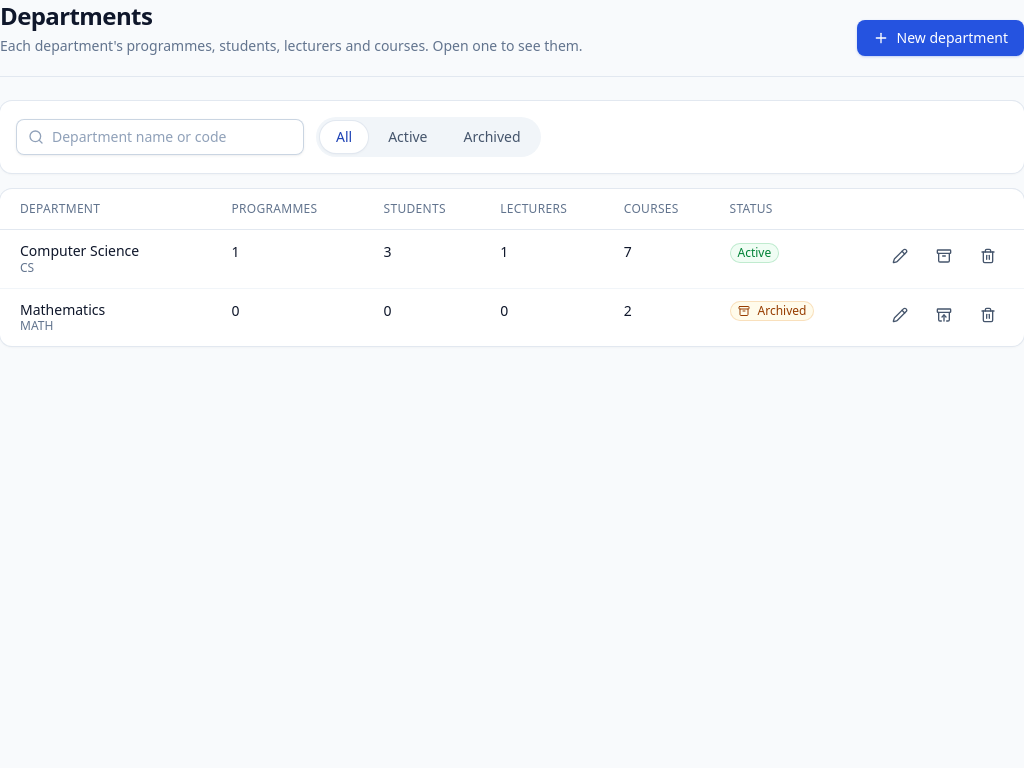
Test: Departments page › admins can archive, after a confirmation that explains what archiving does
Click the button named "Archive CS". click: (944, 256)
box: [924,242,964,270]
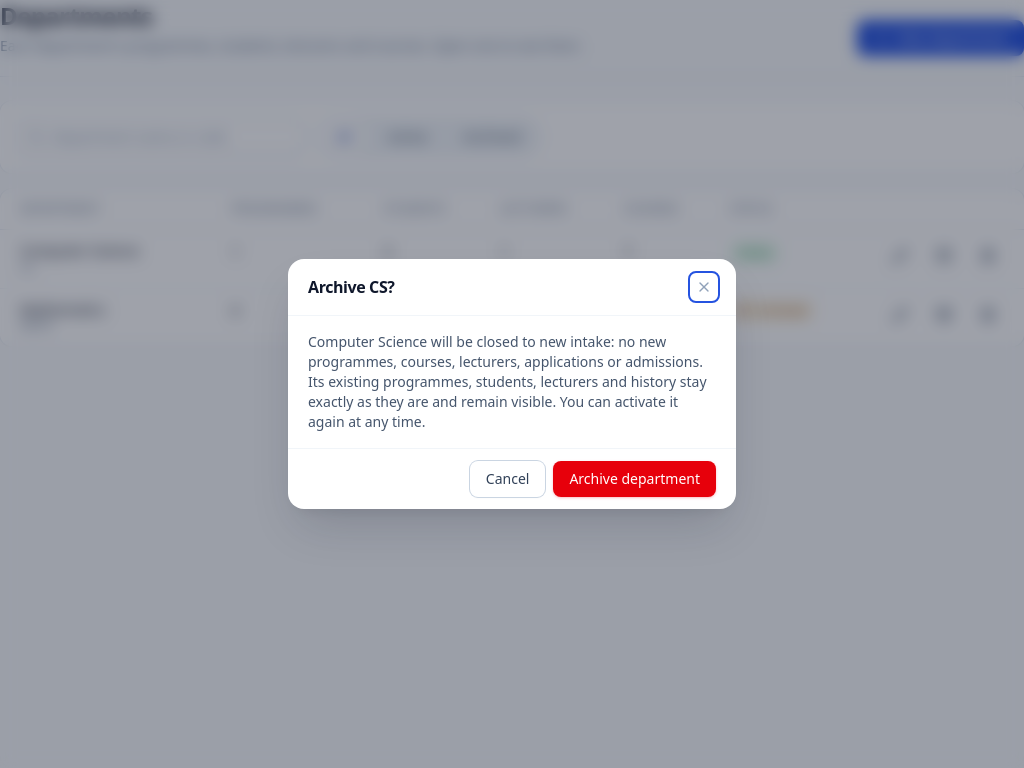
Check: the text "closed to new intake" is shown, box [308,332,706,431]
Check: the button "Archive department" is shown, box [553,461,716,497]
